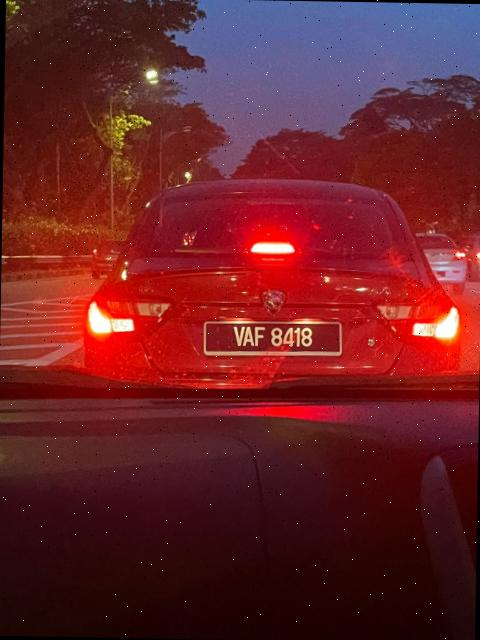License_Plate: (203, 318, 338, 356)
car: (81, 164, 468, 394)
